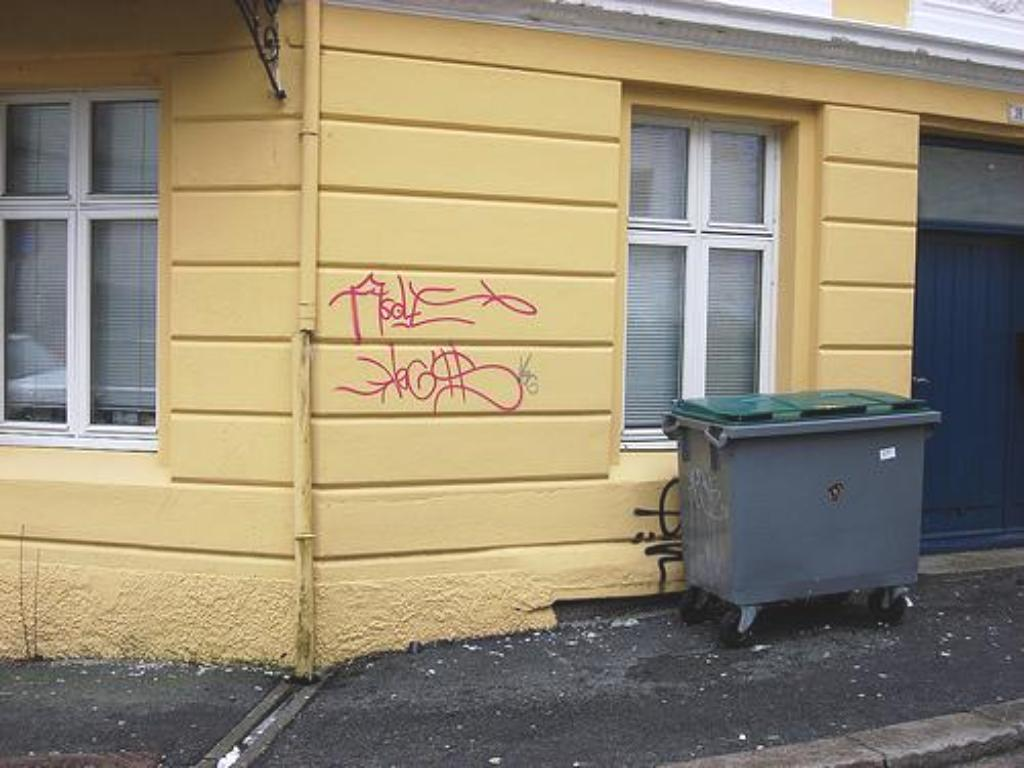dustbin: (664, 379, 948, 635)
